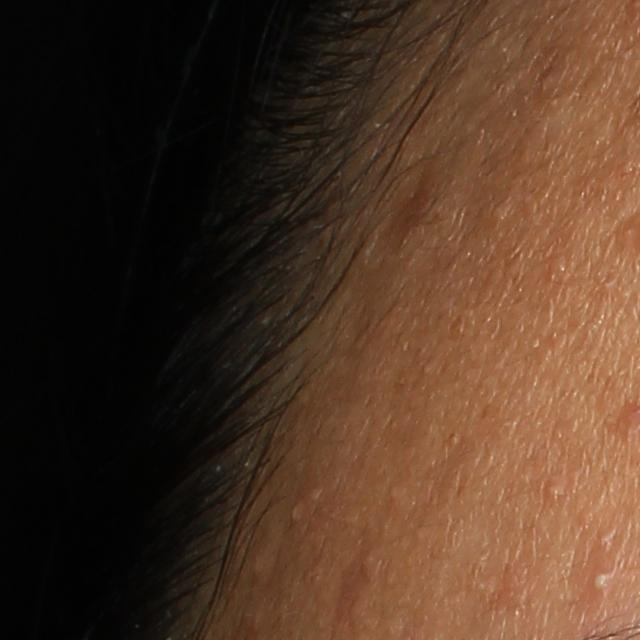comedo: (544, 479, 562, 502)
papule: (287, 498, 307, 520)
pustule: (583, 561, 618, 607)
